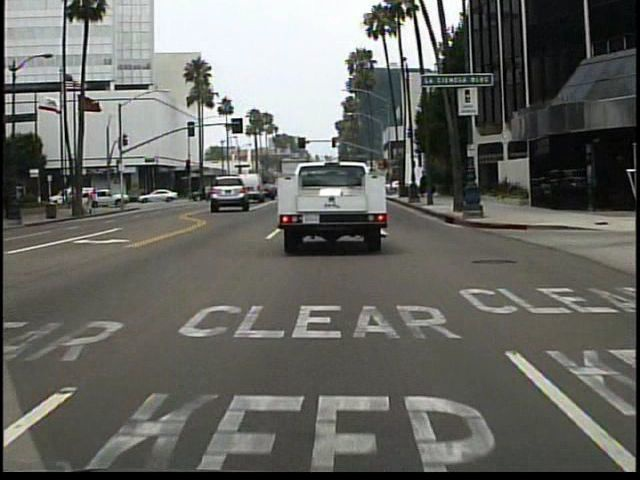person: (90, 187, 103, 213)
